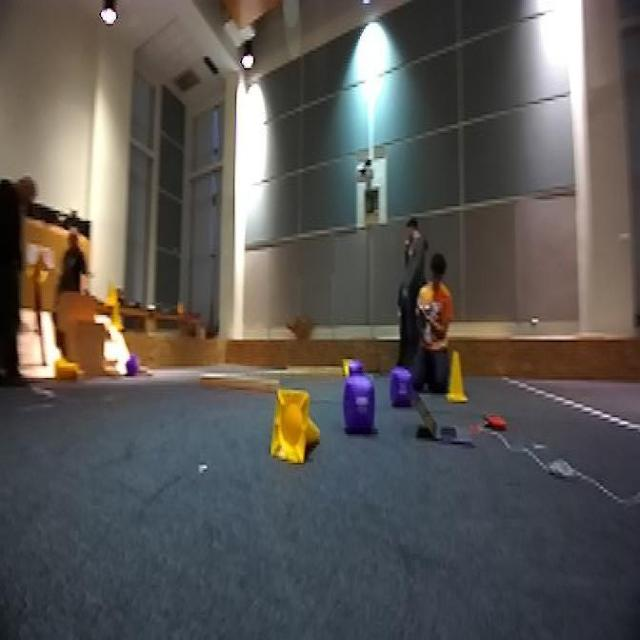frc_cone: (270, 388, 321, 472), (444, 349, 470, 402), (52, 354, 74, 383), (103, 278, 118, 308), (108, 301, 121, 332)
frc_cube: (343, 374, 376, 432), (389, 366, 415, 403), (122, 356, 142, 378), (347, 358, 363, 376)
